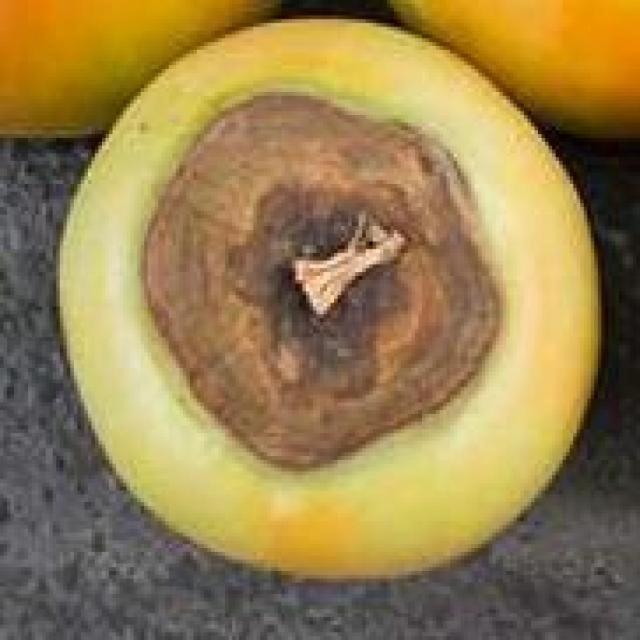Blossom End Rot Fruit: (90, 55, 339, 316)
